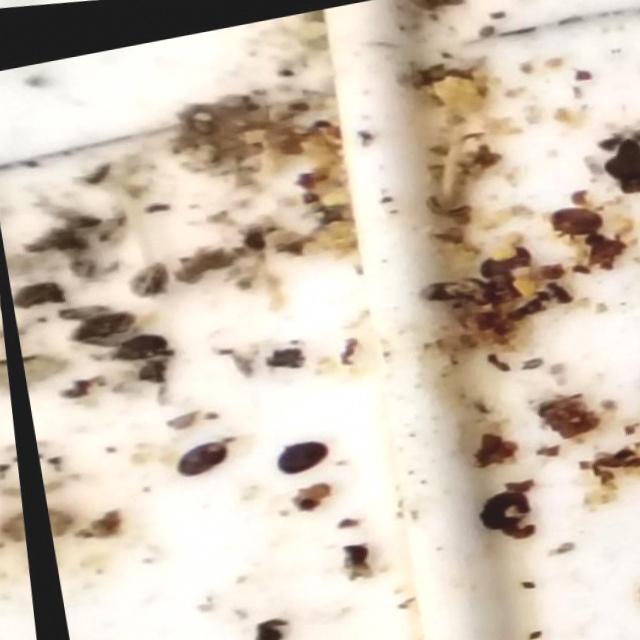varroa: (161, 429, 227, 476), (266, 432, 331, 477), (63, 302, 134, 342), (100, 325, 167, 364)
